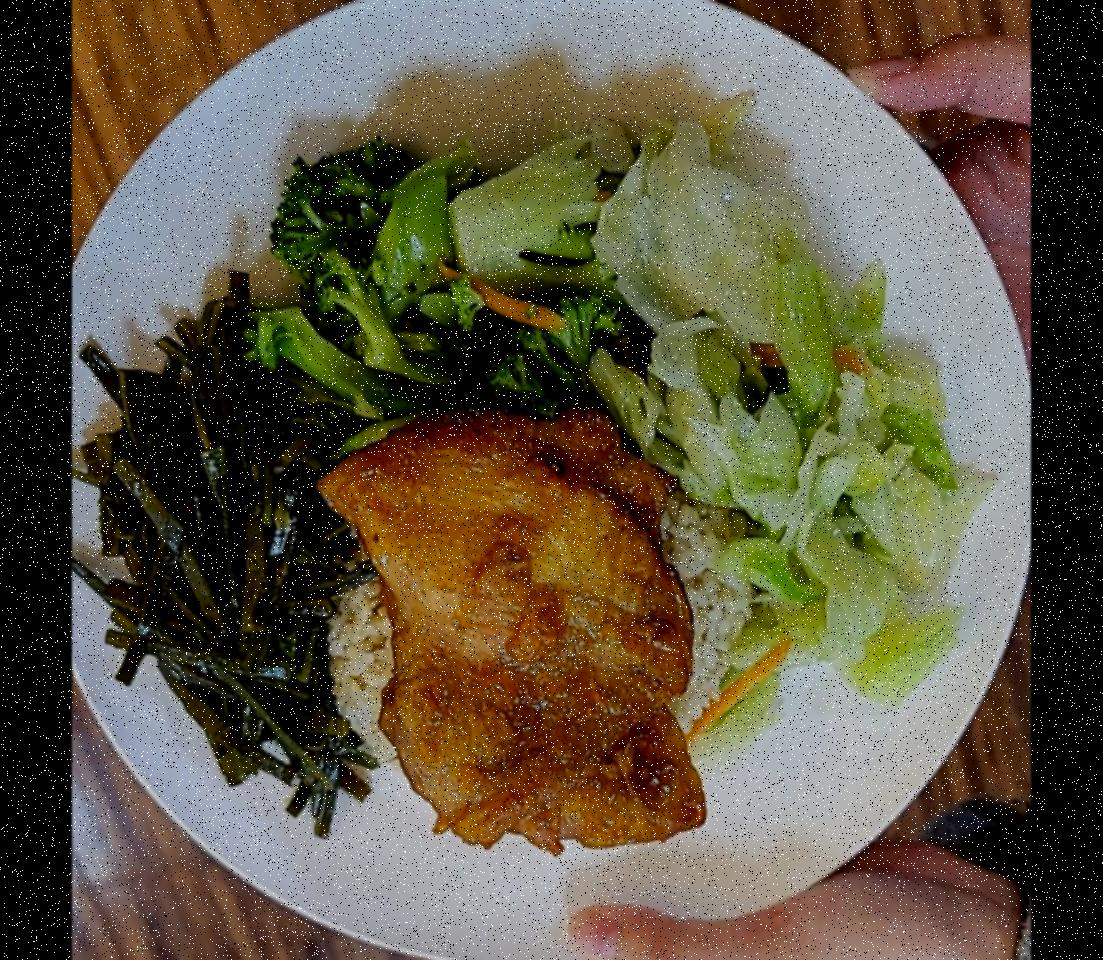grilled chicken leg steak: (337, 405, 711, 853)
plate: (71, 0, 1029, 960)
side dish: (610, 120, 983, 715), (84, 261, 373, 833), (254, 127, 641, 451)
white rice: (308, 429, 741, 773)
